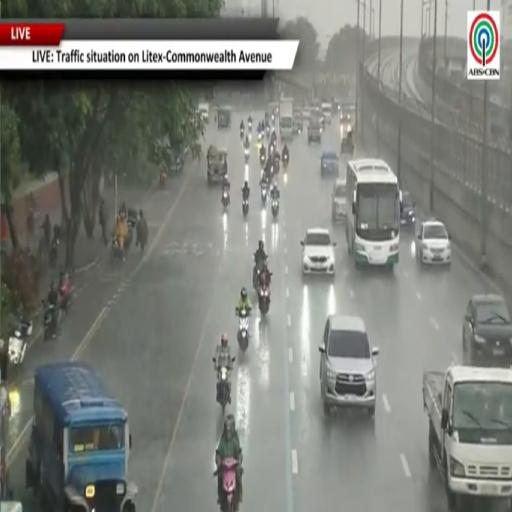bus: (346, 159, 399, 268)
car: (319, 315, 378, 417), (463, 294, 511, 363), (415, 219, 451, 265), (301, 228, 335, 276), (331, 179, 346, 221), (400, 190, 416, 227), (321, 151, 339, 177), (308, 116, 321, 143), (198, 103, 209, 123), (302, 106, 310, 120)
motorcycle: (9, 318, 32, 365), (219, 458, 238, 511), (217, 366, 230, 413), (44, 304, 59, 341), (237, 310, 249, 351), (258, 279, 270, 316), (253, 256, 265, 292), (59, 279, 72, 312), (48, 237, 59, 268), (111, 236, 124, 261), (271, 199, 279, 218), (273, 155, 280, 175), (222, 190, 229, 209), (261, 183, 267, 205), (159, 171, 166, 188), (242, 198, 248, 216), (283, 153, 289, 169), (260, 153, 266, 168), (245, 148, 250, 163), (271, 137, 276, 149), (266, 125, 270, 138), (258, 132, 263, 142), (248, 121, 252, 132), (240, 128, 244, 139), (271, 114, 275, 124)
truck: (26, 362, 137, 511), (423, 365, 511, 510), (0, 382, 11, 501), (207, 146, 227, 185), (279, 99, 293, 140), (293, 107, 303, 134), (0, 502, 22, 511)
